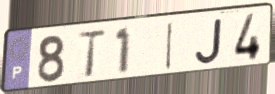1: (113, 26, 133, 76)
4: (232, 11, 263, 63)
8: (37, 33, 68, 84)
I: (163, 20, 175, 72)
J: (194, 17, 224, 66)
T: (75, 28, 108, 80)
